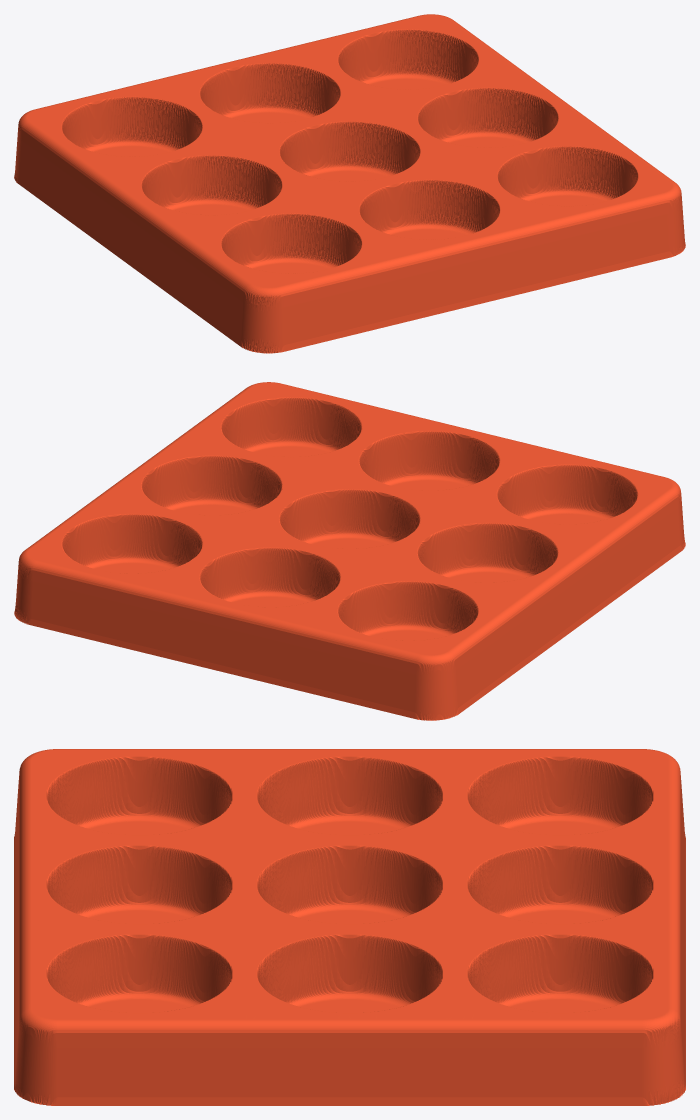
File: mold.glb
3 renders of one model, top to bottom at view 1: azimuth 30°, elevation 25°; view 2: azimuth 150°, elevation 25°; view 3: azimuth 270°, elevation 25°, orthographic. The views are drawn at different scales.
Visible parts, largest first — view 1: geometry_0; view 2: geometry_0; view 3: geometry_0.
Part boxes in pixels (x1,y1,x2,y2): geometry_0: (14,14,685,353); geometry_0: (14,382,685,720); geometry_0: (14,749,685,1105).
Bounding box in the file's own units: 0.1402 × 0.0182 × 0.1402.
